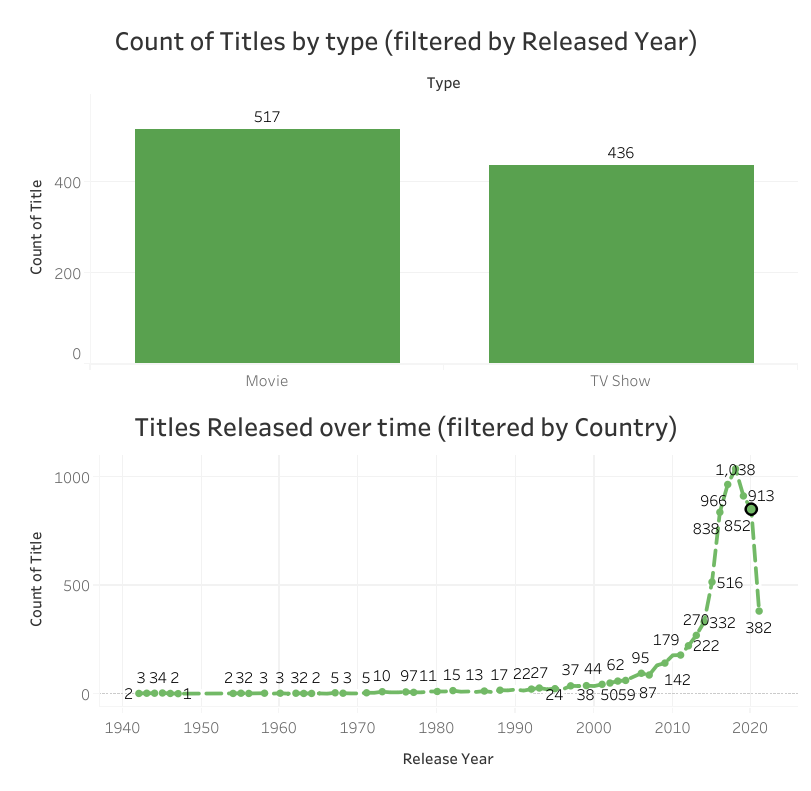

The page's visual inventory and layout, read from the dashboard file:
{"tool":"tableau","page":{"name":"Dashboard 1","canvas":[650,860],"ordinal":0},"visuals":[{"type":"worksheet","title":"Sheet 1","mark":"Automatic","rows":["title"],"cols":["type"],"box":[8,8,634,422]},{"type":"worksheet","title":"Sheet 2","mark":"Automatic","rows":["title"],"cols":["release_year"],"box":[8,430,634,422]}]}

Visuals, with their boxes on the page's 650x860 design canvas (x1, y1, x2, y2). These are canvas units, not pixel positions in the 811x791 screenshot, which may show the page scaled, cropped or inside an application window:
"Sheet 1" worksheet: <region>8, 8, 642, 430</region>
"Sheet 2" worksheet: <region>8, 430, 642, 852</region>
